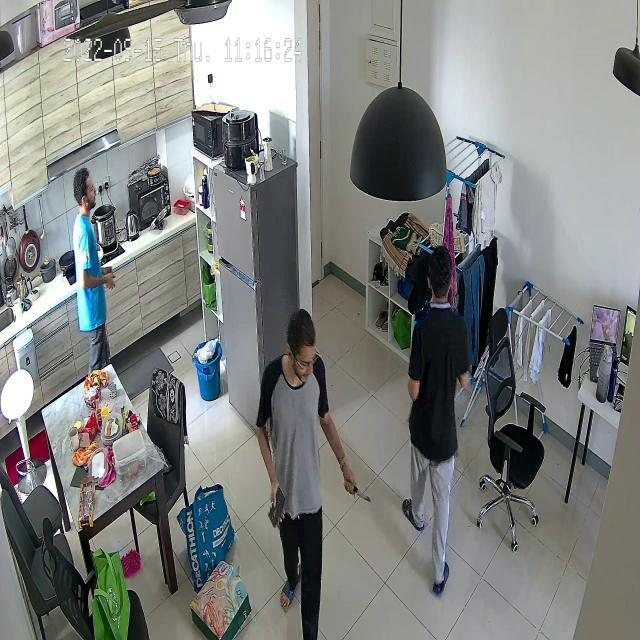Knife: (347, 475, 381, 516)
